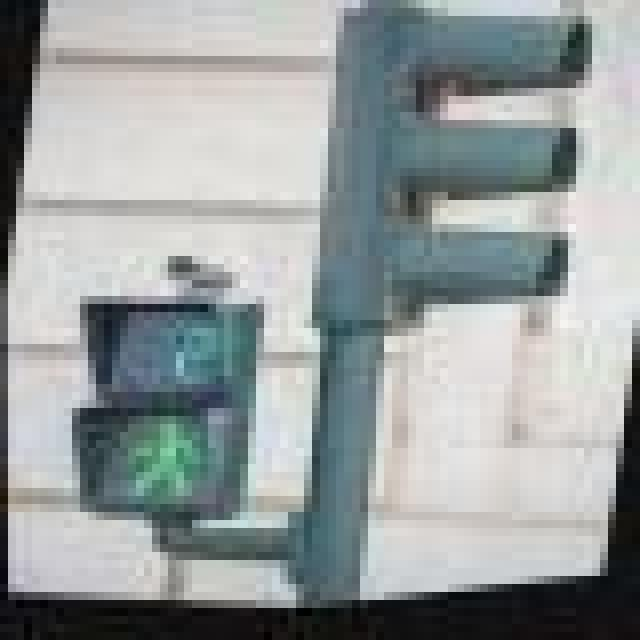greenlight: (77, 306, 243, 522)
